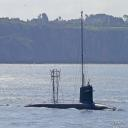submarine: (7, 88, 120, 112)
